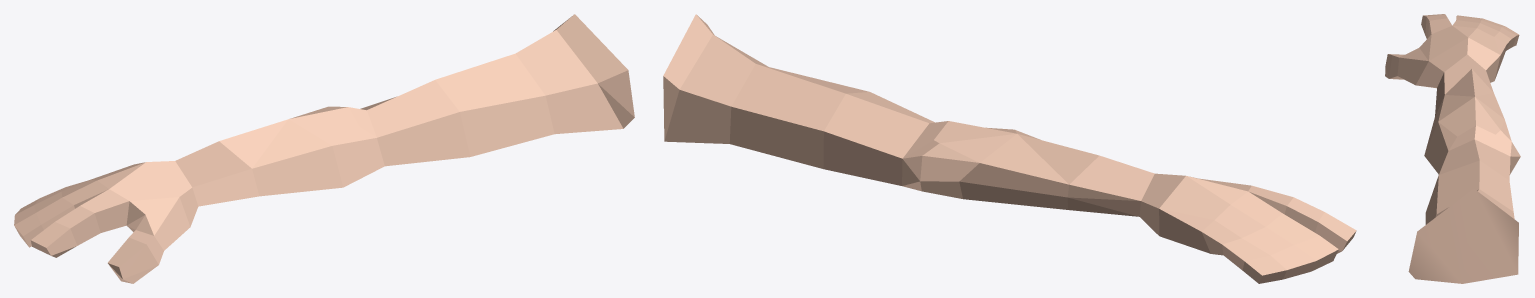
The model's file is ZombieRightArm.fbx.
3 views of the same model, side by side, from view 1: azimuth 30°, elevation 25°; view 2: azimuth 150°, elevation 25°; view 3: azimuth 270°, elevation 25° (orthographic). The views are drawn at different scales.
Visible parts, largest first — view 1: polySurface21; view 2: polySurface21; view 3: polySurface21.
Part boxes in pixels (left/top/right/bottom): polySurface21: left=14, top=14, right=634, bottom=283; polySurface21: left=663, top=14, right=1356, bottom=283; polySurface21: left=1385, top=14, right=1520, bottom=283.
Size of the model in its own units: 83.35 by 16.12 by 18.91.
